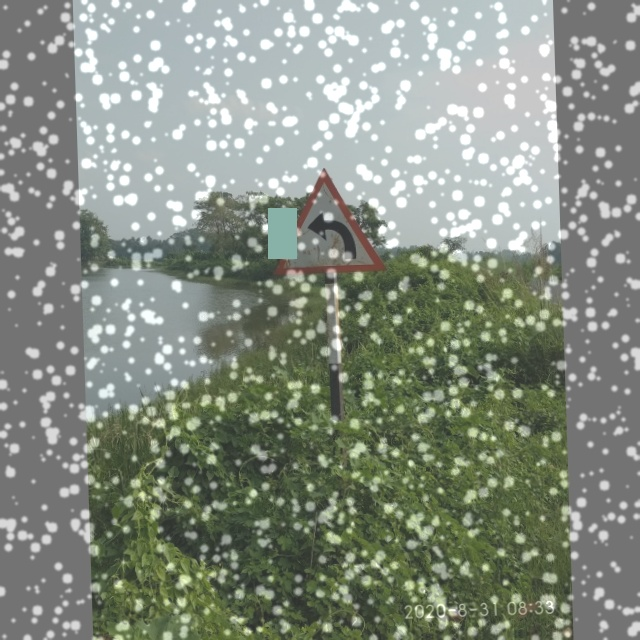Left_Hand_Curve: (265, 164, 387, 280)
